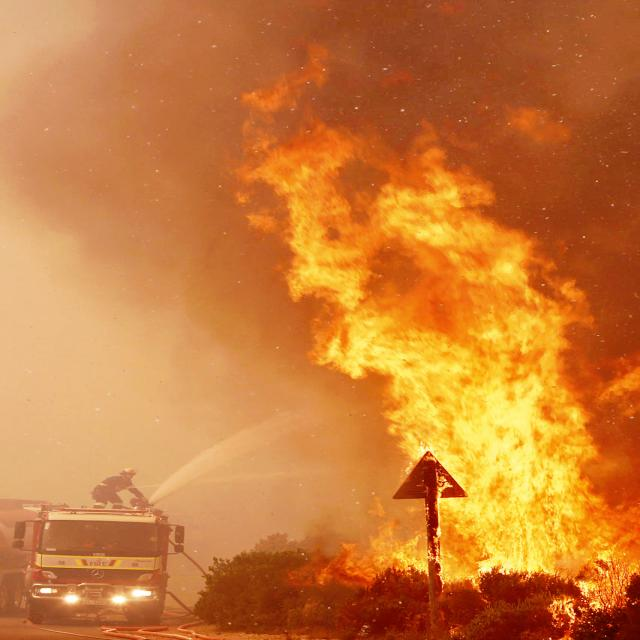api: (211, 42, 627, 620)
